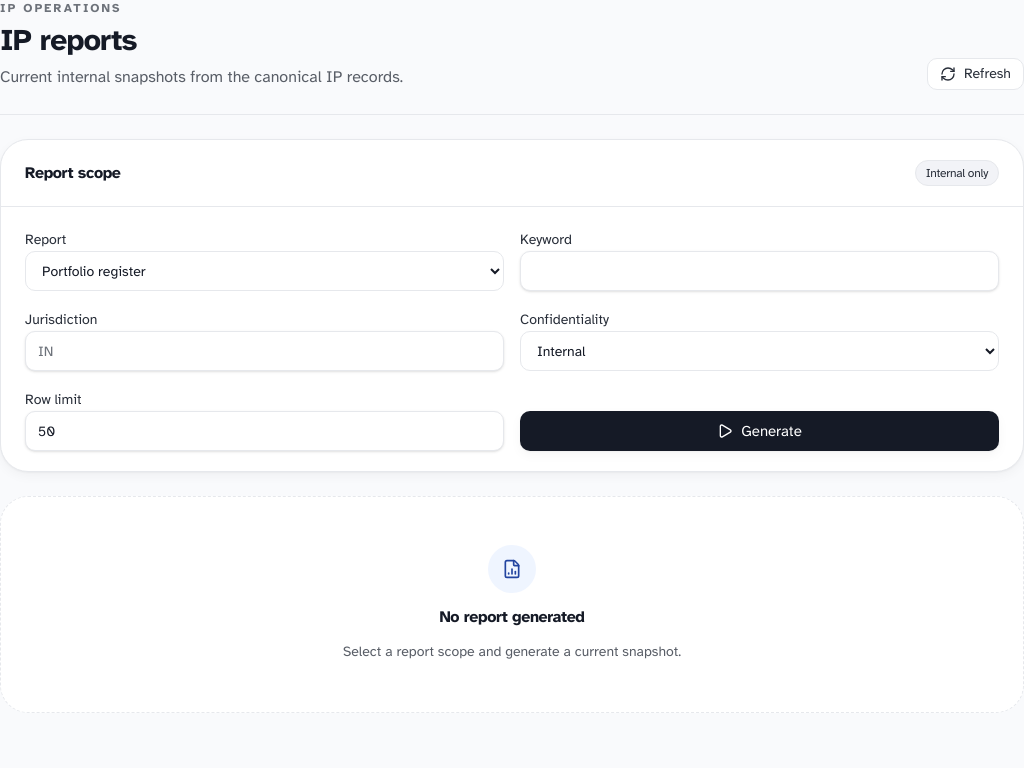
Test: IpReportsPage › publishes only an internal reviewed snapshot to selected active grants
This screenshot has width=1024, height=768.
Click the button "Generate" at (760, 431), box [520,411,999,451]
(page scrolled)
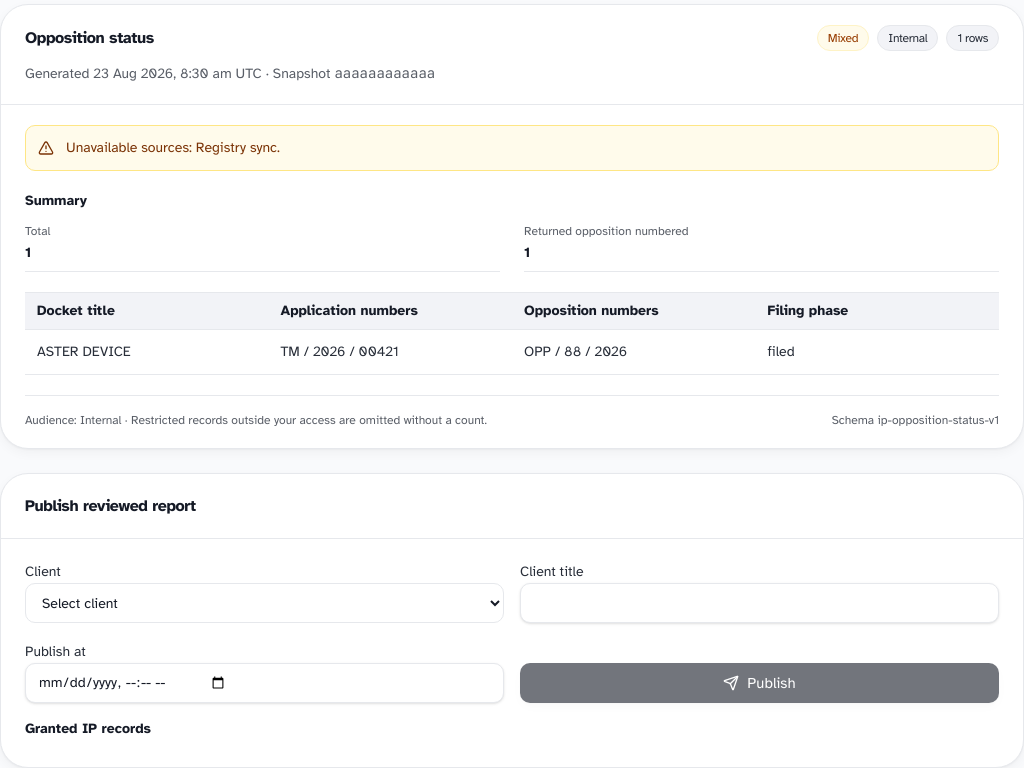
Select "Asha Rao · asha@example.com" in the dropdown labelled "Client" at (264, 603), box [25,583,504,623]
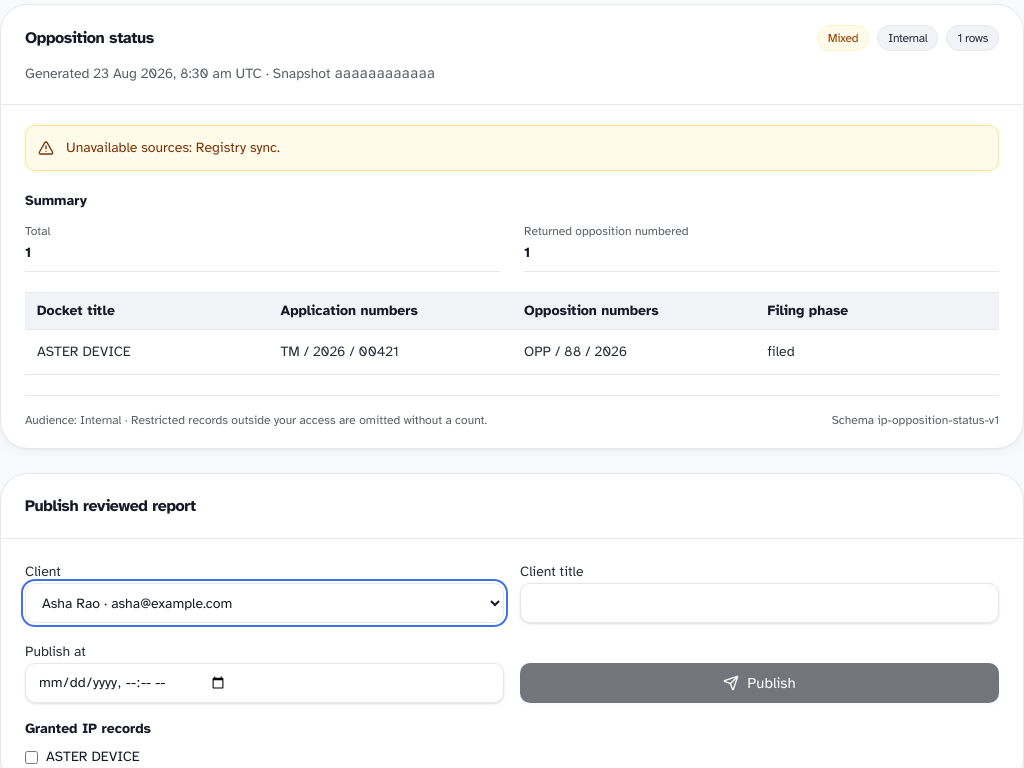
Type "Opposition update" into the field labelled "Client title" at (760, 603), box [520,583,999,623]
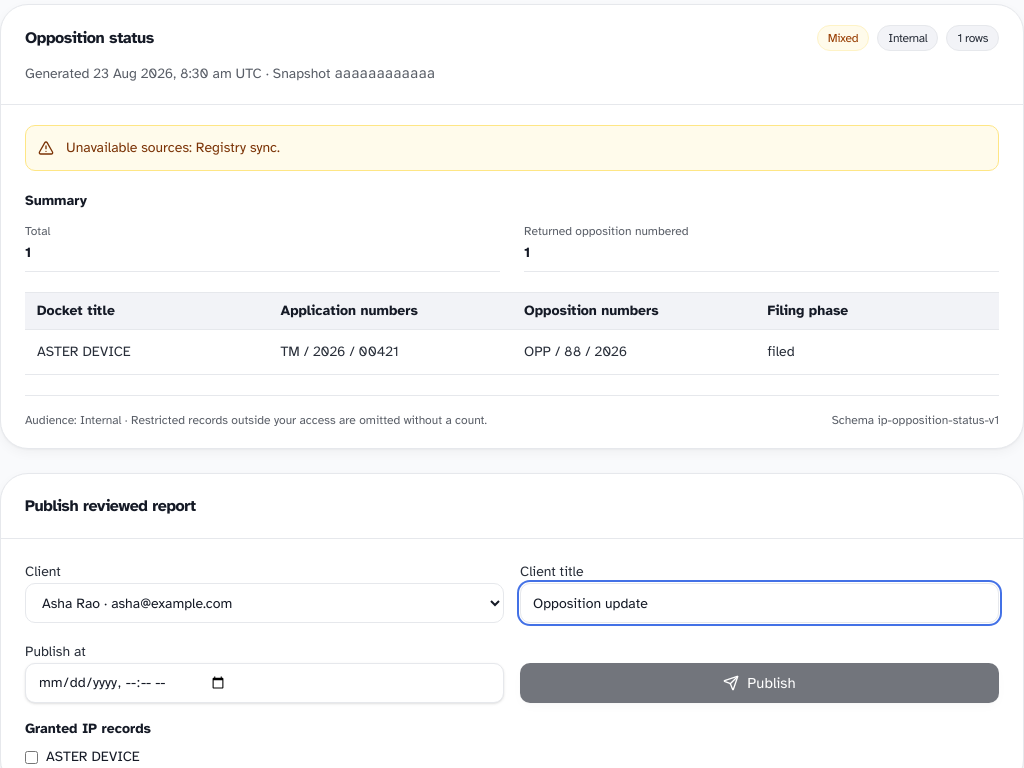
Click the checkbox labelled "ASTER DEVICE" at (32, 757), box [25,750,38,764]
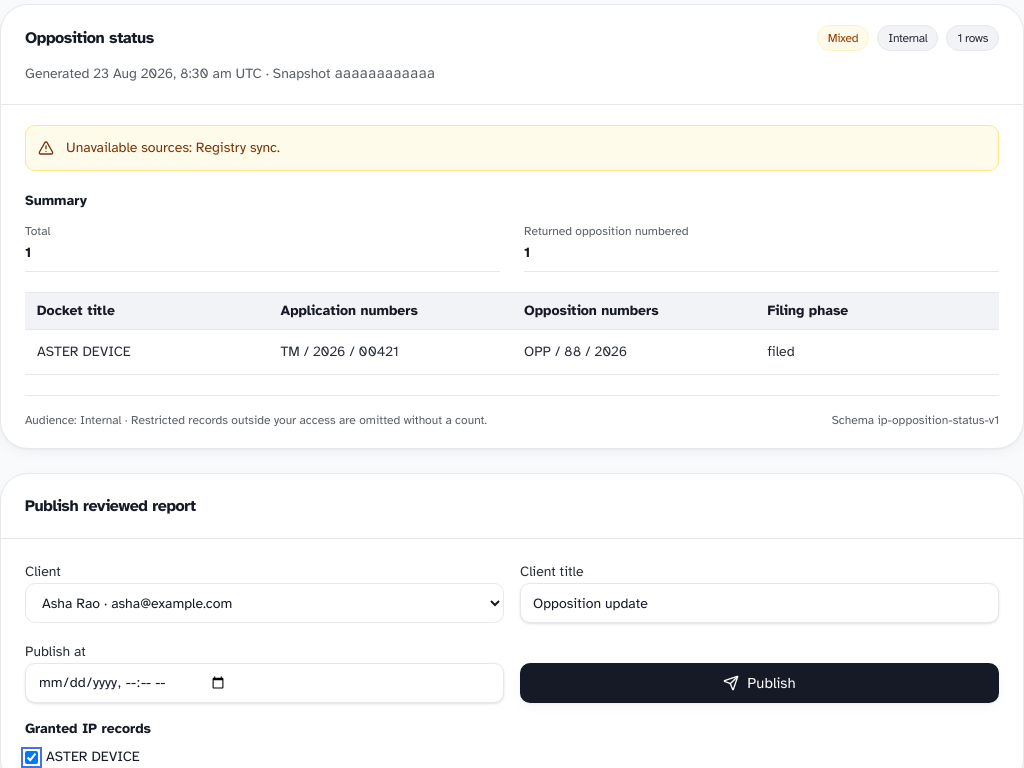
Click the button "Publish" at (760, 683), box [520,663,999,703]
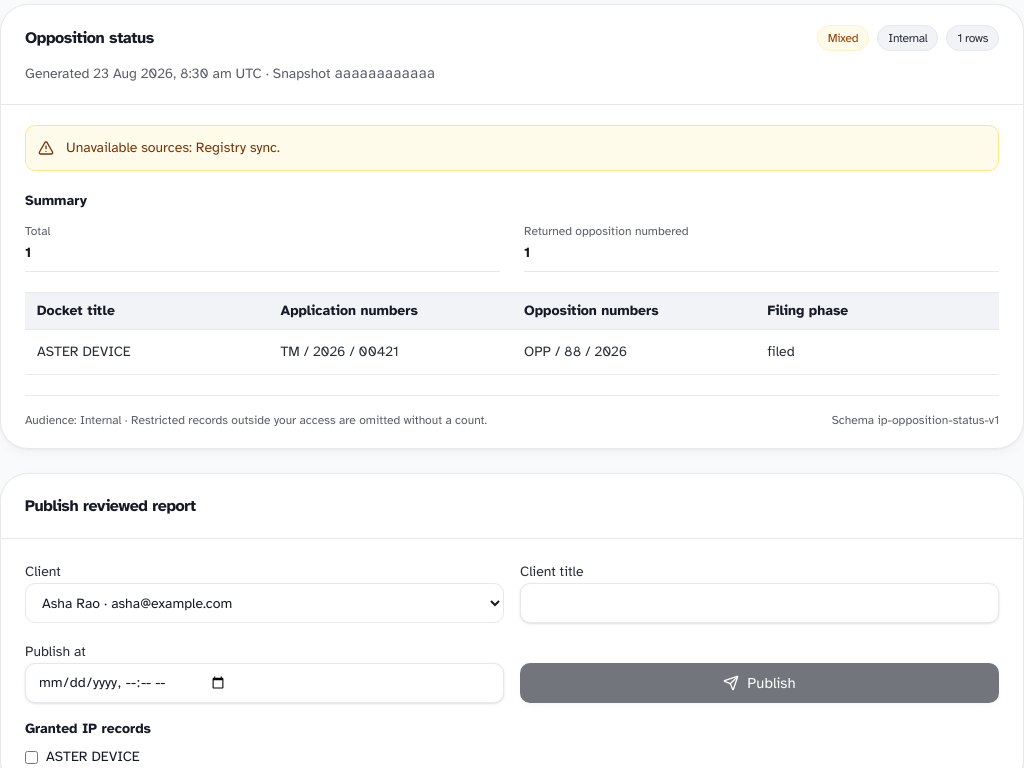
Expected: the checkbox labelled "ASTER DEVICE" is not checked, [25,750,38,764]
Expected: the field labelled "Client title" is empty, [520,583,999,623]
Expected: the button "Publish" is disabled, [520,663,999,703]
